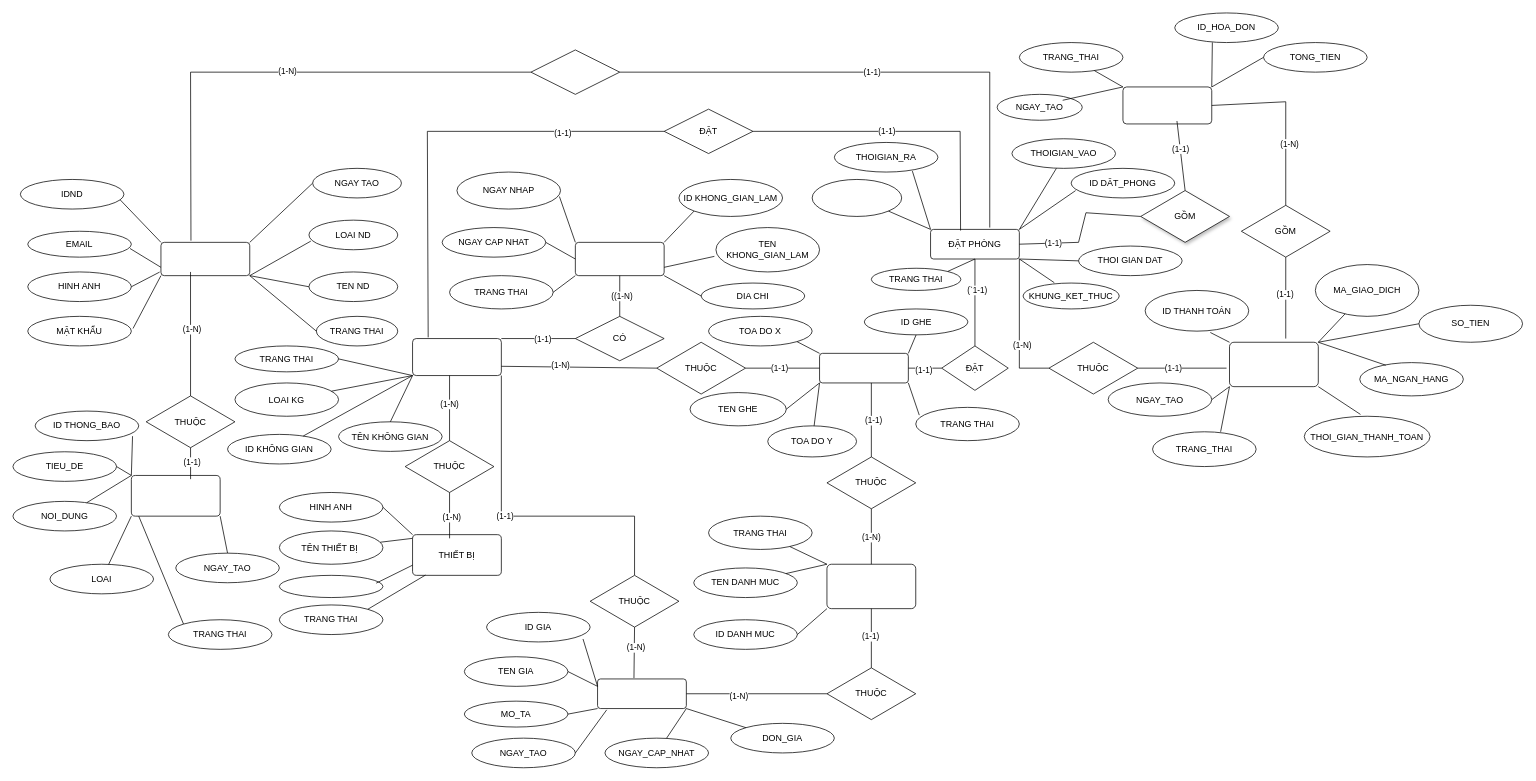
Some shapes in this 1536 by 781 pixel diagram are drawn without their labels. Each missing label, with the centre of its shape:
"DANH MUC GHE" goes at pixel 871 586.
"GHẾ" goes at pixel 863 368.
"GIA" goes at pixel 641 693.
"HOA DON" goes at pixel 1167 105.
"ID THIẾT BỊ" goes at pixel 331 586.
"KHUNG_BĂT_DAU" goes at pixel 856 197.
"KHÔNG GIAN" goes at pixel 456 357.
"KHÔNG GIAN LÀM VIỆC" goes at pixel 619 259.
"NGƯỜI DÙNG" goes at pixel 205 259.
"THANH TOÁN" goes at pixel 1273 364.
"THÔNG BÁO" goes at pixel 175 495.
"ĐẶT LỊCH" goes at pixel 575 71.
